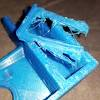fail: (14, 1, 95, 61)
